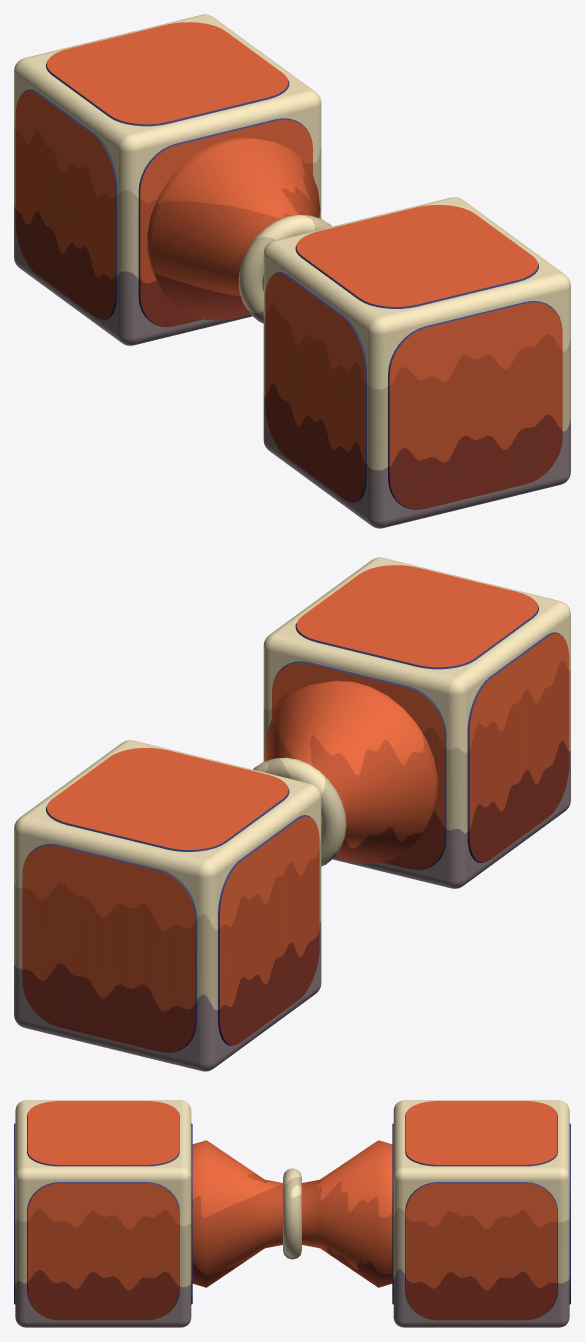
File: R4C_STRUT_STANDARD.glb
3 views of the same model, one above another, from view 1: azimuth 30°, elevation 25°; view 2: azimuth 150°, elevation 25°; view 3: azimuth 270°, elevation 25° (orthographic). The views are drawn at different scales.
Parts seen in each view (by area): view 1: R4C_STRUT_STANDARD; view 2: R4C_STRUT_STANDARD; view 3: R4C_STRUT_STANDARD.
Boxes of the visible parts, bbox=[...] form: R4C_STRUT_STANDARD: bbox=[14, 14, 570, 528]; R4C_STRUT_STANDARD: bbox=[14, 557, 570, 1071]; R4C_STRUT_STANDARD: bbox=[14, 1100, 570, 1327].
Size of the model in its own units: 0.52 by 0.52 by 1.62.
Materials: 3 (3 with a texture image).
